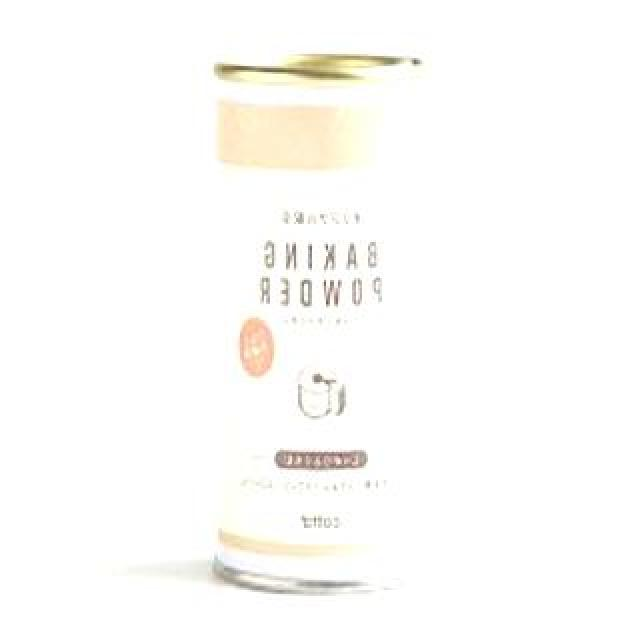Can: (203, 46, 437, 592)
